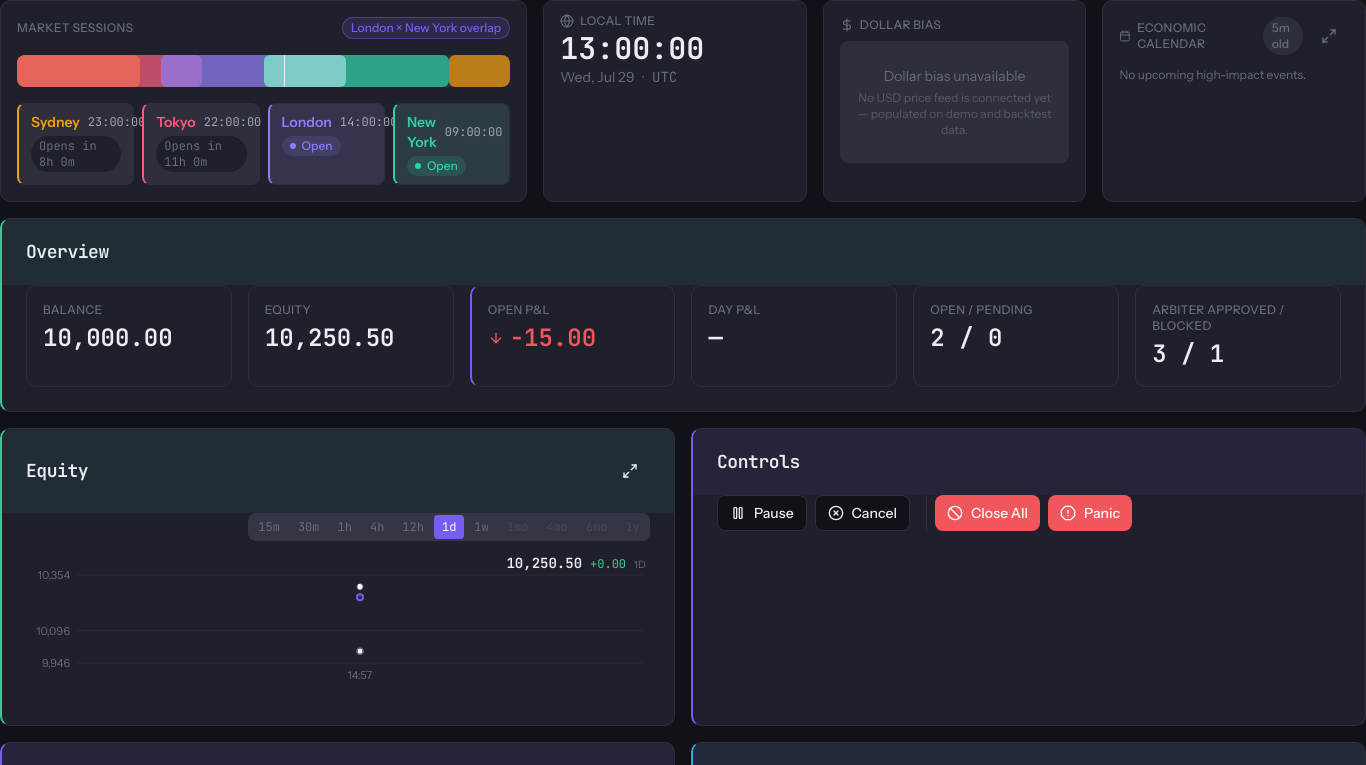
Scenario: news maximize › opening Equity yields exactly one dialog
Expected: the element with test id "range-selector" is shown, 248,513 -> 650,541
Click the button named "Maximize Equity" at (630, 471), box 610,453 -> 650,489
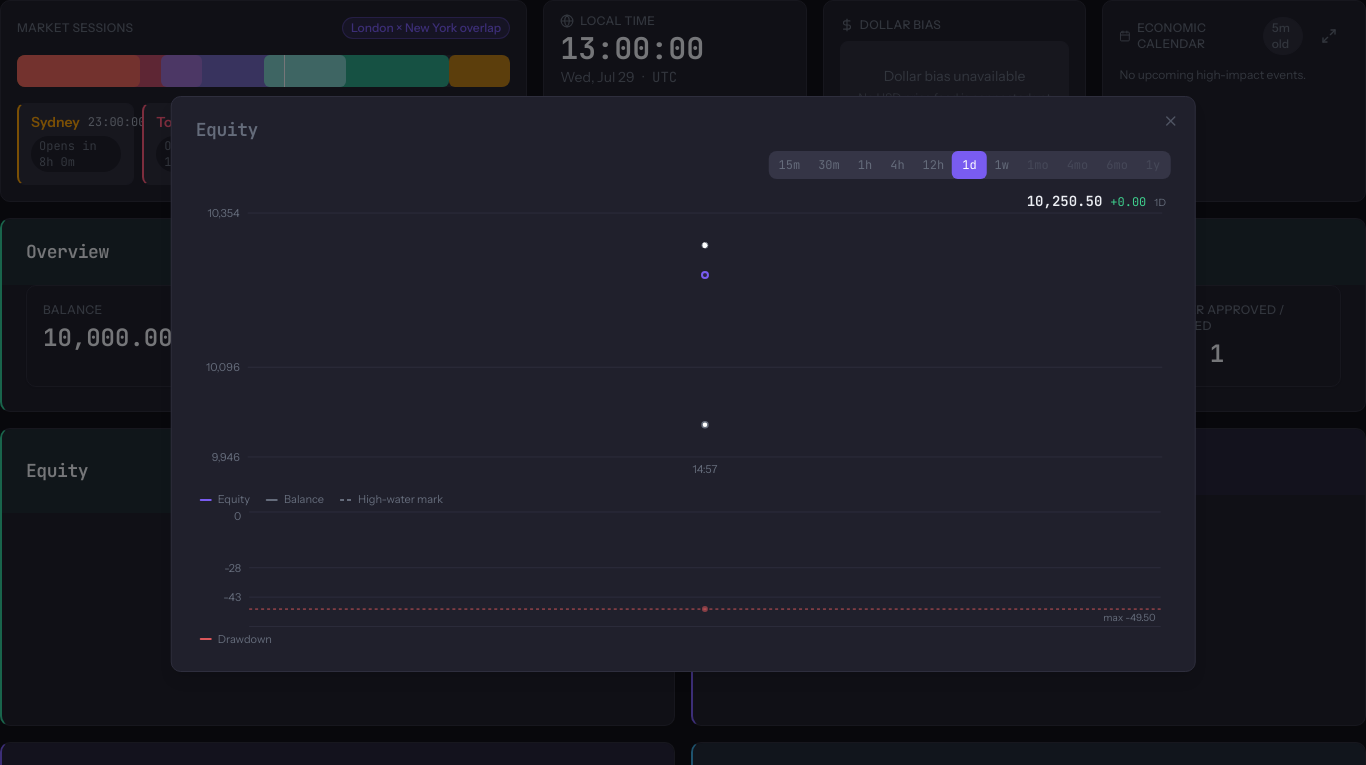
Result: the number of dialogs is 1 at 171,96 -> 1195,672
